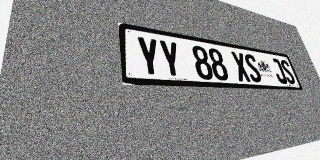8: (191, 45, 214, 80), (207, 47, 230, 81)
J: (270, 58, 288, 84)
S: (243, 53, 263, 83), (279, 59, 297, 84)
X: (230, 51, 252, 82)
Y: (135, 36, 163, 77), (158, 39, 184, 78)
